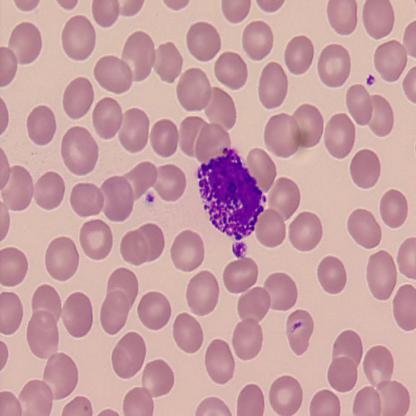Basophil: (195, 143, 268, 238)
